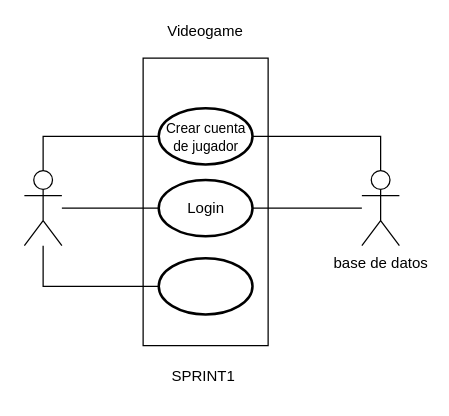
Some shapes in this 449 by 416 pixel diagram are drawn without their labels. The shapes that lost their labels are listed below. From the top down, each one's centre as x and y in pixels, then its label:
pixel 42 207: Player
pixel 205 285: iniciar match tcg
